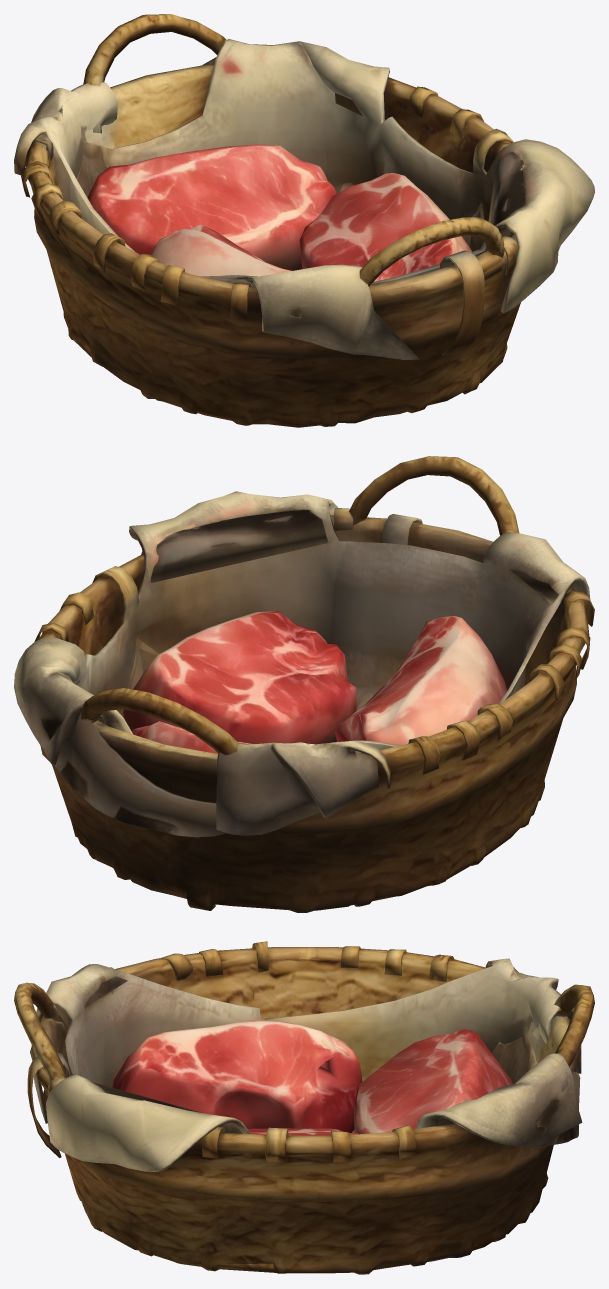
The picture shows the model from 3 angles, top to bottom: view 1: azimuth 30°, elevation 25°; view 2: azimuth 150°, elevation 25°; view 3: azimuth 270°, elevation 25°; orthographic projection. The views are drawn at different scales.
Parts seen in each view (by area): view 1: tripo_node_31261e0c-01c2-4645-a5b5-bf80e43de7aa; view 2: tripo_node_31261e0c-01c2-4645-a5b5-bf80e43de7aa; view 3: tripo_node_31261e0c-01c2-4645-a5b5-bf80e43de7aa.
Boxes of the visible parts, x1=… form: tripo_node_31261e0c-01c2-4645-a5b5-bf80e43de7aa: x1=14, y1=14, x2=594, y2=427; tripo_node_31261e0c-01c2-4645-a5b5-bf80e43de7aa: x1=14, y1=456, x2=594, y2=912; tripo_node_31261e0c-01c2-4645-a5b5-bf80e43de7aa: x1=14, y1=941, x2=594, y2=1274.
Bounding box in the file's own units: 0.8613 × 0.4004 × 0.998.
1 material, 1 textured.
